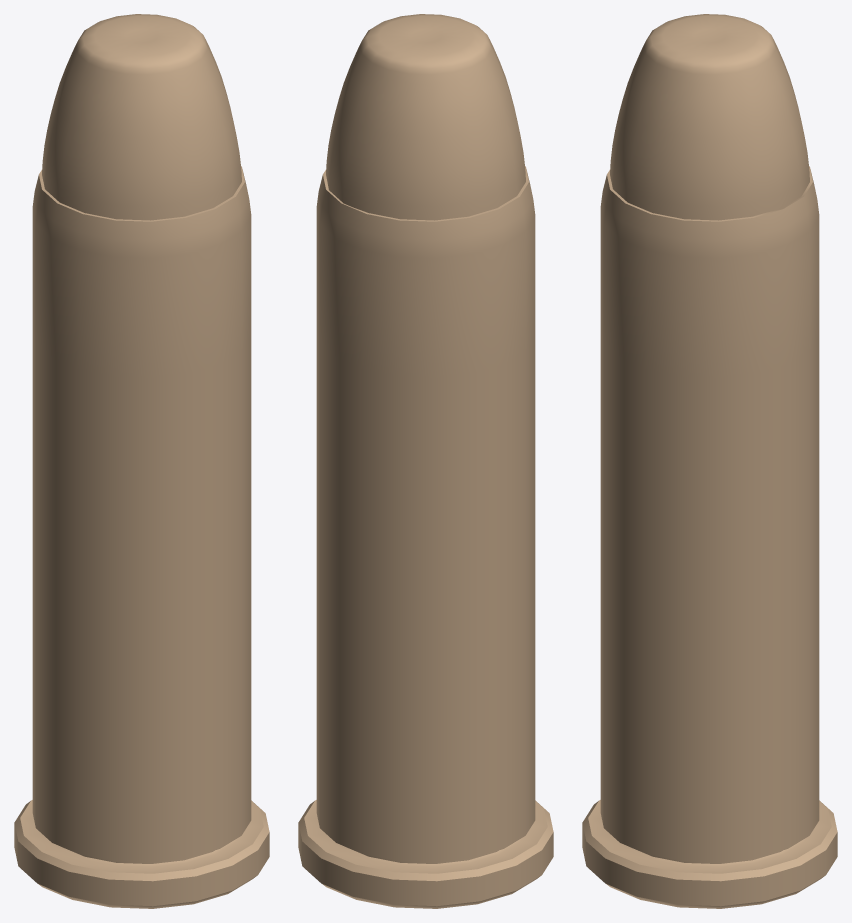
Rendered from Bullet1.fbx.
The picture shows the model from 3 angles, left to right: view 1: azimuth 30°, elevation 25°; view 2: azimuth 150°, elevation 25°; view 3: azimuth 270°, elevation 25°; orthographic projection.
Parts seen in each view (by area): view 1: bullet; view 2: bullet; view 3: bullet.
Boxes of the visible parts, x1,y1,x2,y2 form: bullet: [14, 14, 269, 908]; bullet: [298, 14, 553, 908]; bullet: [582, 14, 837, 908].
Bounding box in the file's own units: 358 × 1275 × 358.
